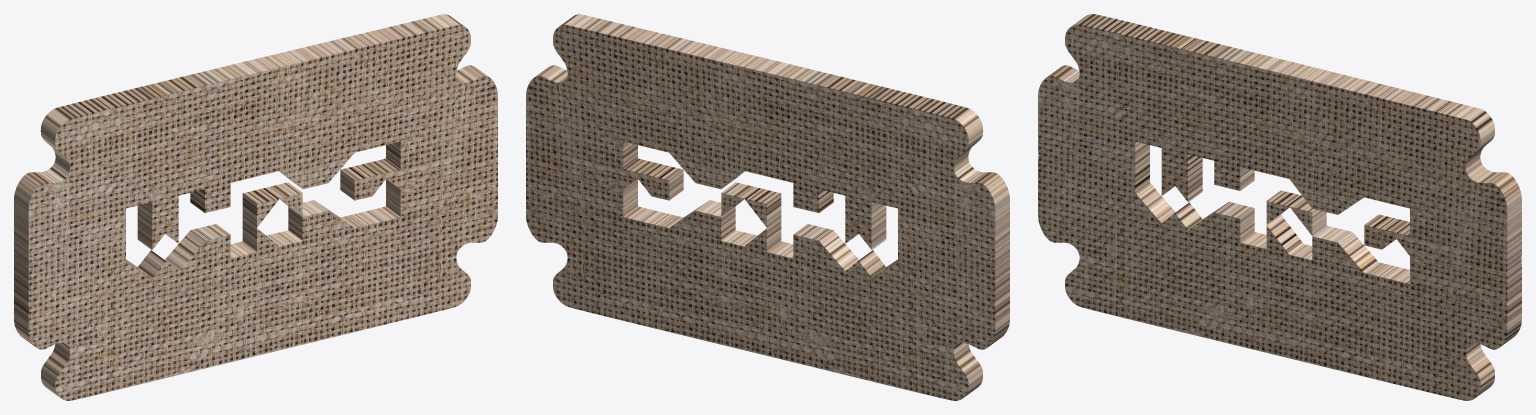
Rendered from jute-sack.glb.
3 views of the same model, side by side, from view 1: azimuth 30°, elevation 25°; view 2: azimuth 150°, elevation 25°; view 3: azimuth 330°, elevation 25° (orthographic).
Visible parts, largest first — view 1: Razor; view 2: Razor; view 3: Razor.
Part boxes in pixels (box(x1,y1,x2,y2)): Razor: box(14, 14, 497, 400); Razor: box(526, 14, 1009, 400); Razor: box(1038, 14, 1521, 400).
Bounding box in the file's own units: 0.5609 × 0.3234 × 0.03.
1 material, 1 textured.
